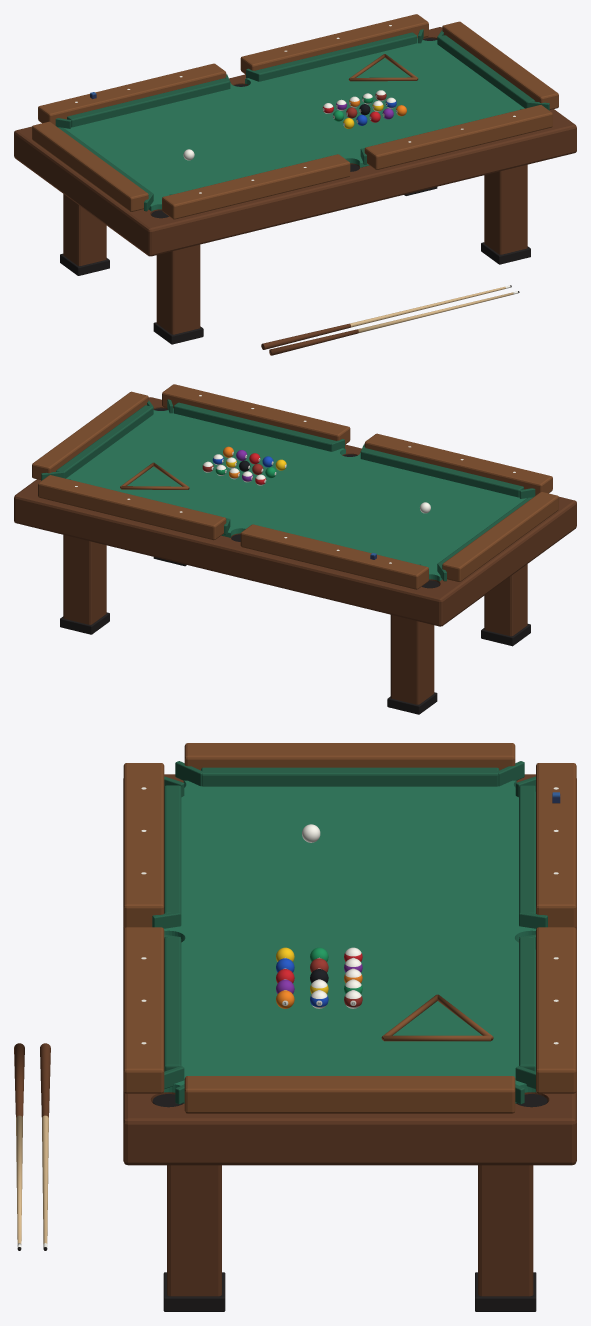
Rendered from billiards-scene.glb.
3 views of the same model, one above another, from view 1: azimuth 30°, elevation 25°; view 2: azimuth 150°, elevation 25°; view 3: azimuth 270°, elevation 25° (orthographic). The views are drawn at different scales.
Parts seen in each view (by area): view 1: Table | slate and green cloth, Table | solid walnut cabinet, Long rail, Long rail.001, Table leg, Table leg.002, End rail, Long rail.003, Long rail.002, End rail.001, Table leg.001, Cushion.002 (+9 smaller); view 2: Table | slate and green cloth, Table | solid walnut cabinet, Long rail.003, Long rail.002, Table leg.001, Table leg.003, End rail, Long rail.001, Long rail, End rail.001, Table leg, Cushion (+5 smaller); view 3: Table | slate and green cloth, Table | solid walnut cabinet, End rail.001, End rail, Table leg.003, Table leg.002, Long rail.001, Long rail.003, Long rail, Long rail.002, Cushion.004, Cushion.001 (+10 smaller).
Boxes of the visible parts, x1,y1,x2,y2 form: Table | slate and green cloth: [64, 38, 524, 211]; Table | solid walnut cabinet: [14, 27, 576, 256]; Long rail: [162, 154, 350, 219]; Long rail.001: [364, 105, 552, 169]; Table leg: [156, 244, 200, 334]; Table leg.002: [484, 164, 527, 254]; End rail: [32, 121, 148, 211]; Long rail.003: [240, 14, 428, 74]; Long rail.002: [38, 63, 226, 125]; End rail.001: [442, 21, 558, 109]; Table leg.001: [63, 194, 106, 266]; Cushion.002: [67, 78, 229, 127]; Table | slate and green cloth: [66, 408, 526, 581]; Table | solid walnut cabinet: [14, 397, 576, 626]; Long rail.003: [38, 475, 226, 540]; Long rail.002: [240, 524, 428, 589]; Table leg.001: [390, 615, 434, 704]; Table leg.003: [63, 535, 106, 624]; End rail: [442, 492, 558, 582]; Long rail.001: [162, 384, 350, 444]; Long rail: [364, 433, 552, 495]; End rail.001: [32, 391, 148, 479]; Table leg: [484, 564, 527, 636]; Cushion: [361, 448, 523, 497]; Table | slate and green cloth: [164, 780, 536, 1103]; Table | solid walnut cabinet: [123, 774, 576, 1165]; End rail.001: [184, 1076, 515, 1113]; End rail: [184, 743, 515, 770]; Table leg.003: [478, 1165, 533, 1296]; Table leg.002: [167, 1165, 221, 1296]; Long rail.001: [123, 927, 164, 1093]; Long rail.003: [536, 927, 576, 1093]; Long rail: [123, 763, 164, 927]; Long rail.002: [536, 763, 576, 927]; Cushion.004: [201, 767, 499, 786]; Cushion.001: [164, 937, 181, 1071].
Size of the model in its own units: 2.54 by 0.882 by 1.74.
